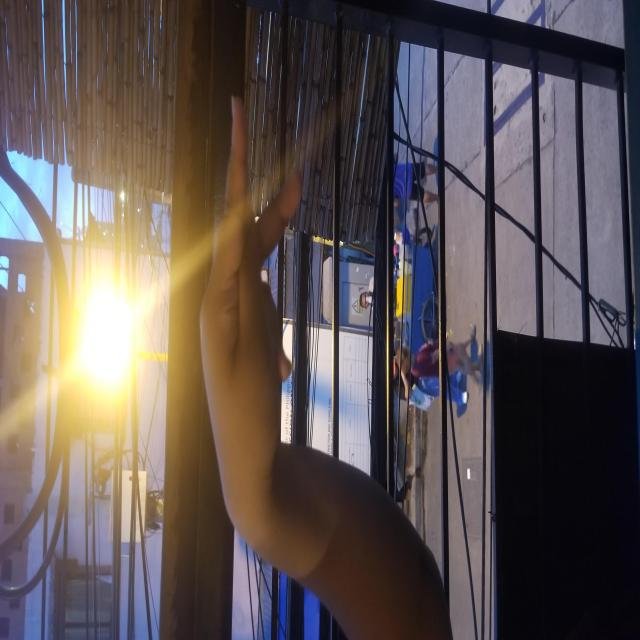P: (164, 78, 366, 589)
